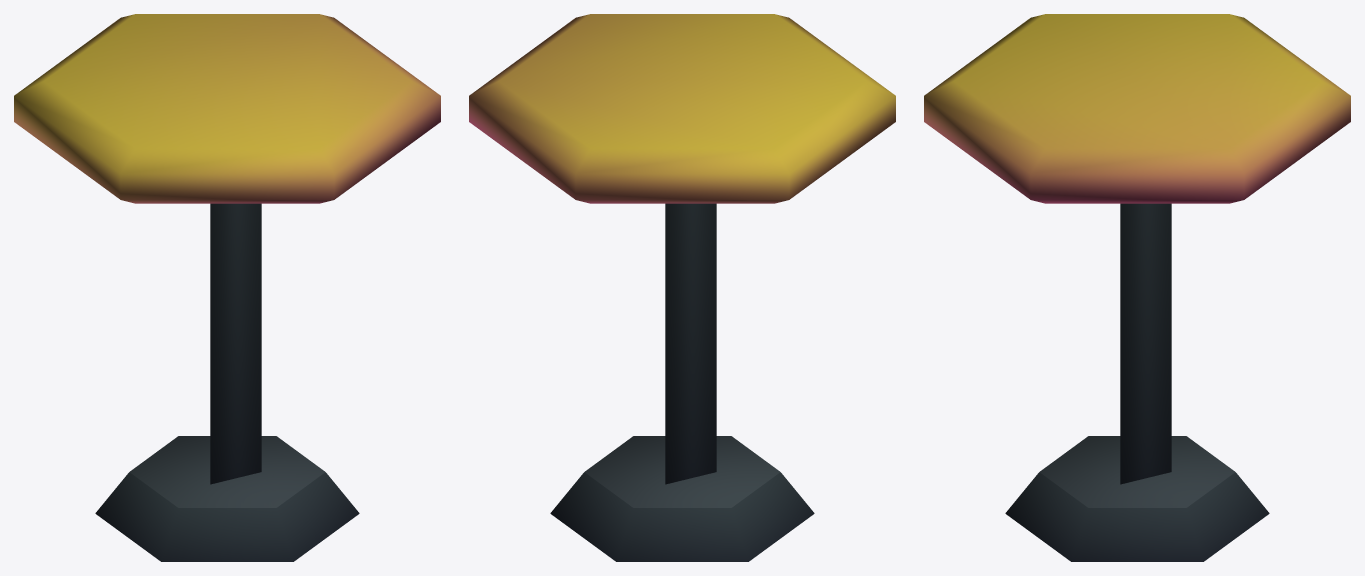
The model's file is bar chairy.fbx.
3 renders of one model, left to right at view 1: azimuth 30°, elevation 25°; view 2: azimuth 150°, elevation 25°; view 3: azimuth 270°, elevation 25°, orthographic.
Parts seen in each view (by area): view 1: Cylinder.021; view 2: Cylinder.021; view 3: Cylinder.021.
Part boxes in pixels (x1=…): Cylinder.021: x1=14, y1=14, x2=440, y2=561; Cylinder.021: x1=469, y1=14, x2=895, y2=561; Cylinder.021: x1=924, y1=14, x2=1350, y2=561.
Bounding box in the file's own units: 119 × 154 × 138.
